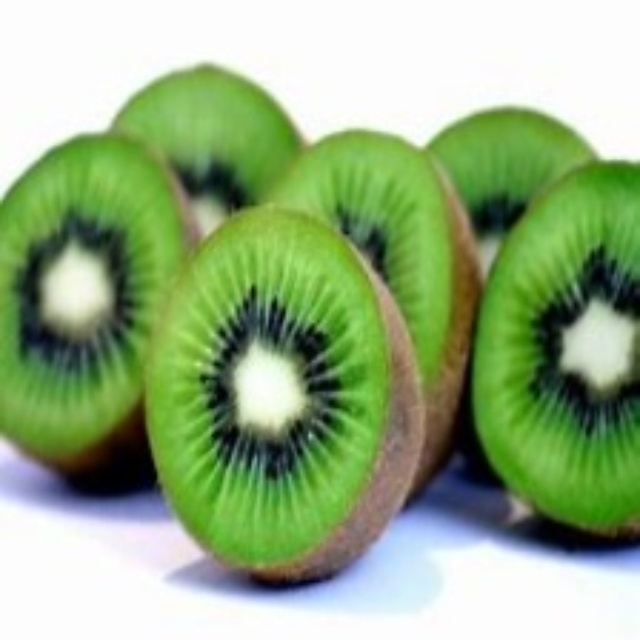kiwi: (139, 126, 480, 586), (5, 45, 297, 473), (426, 80, 639, 538)
